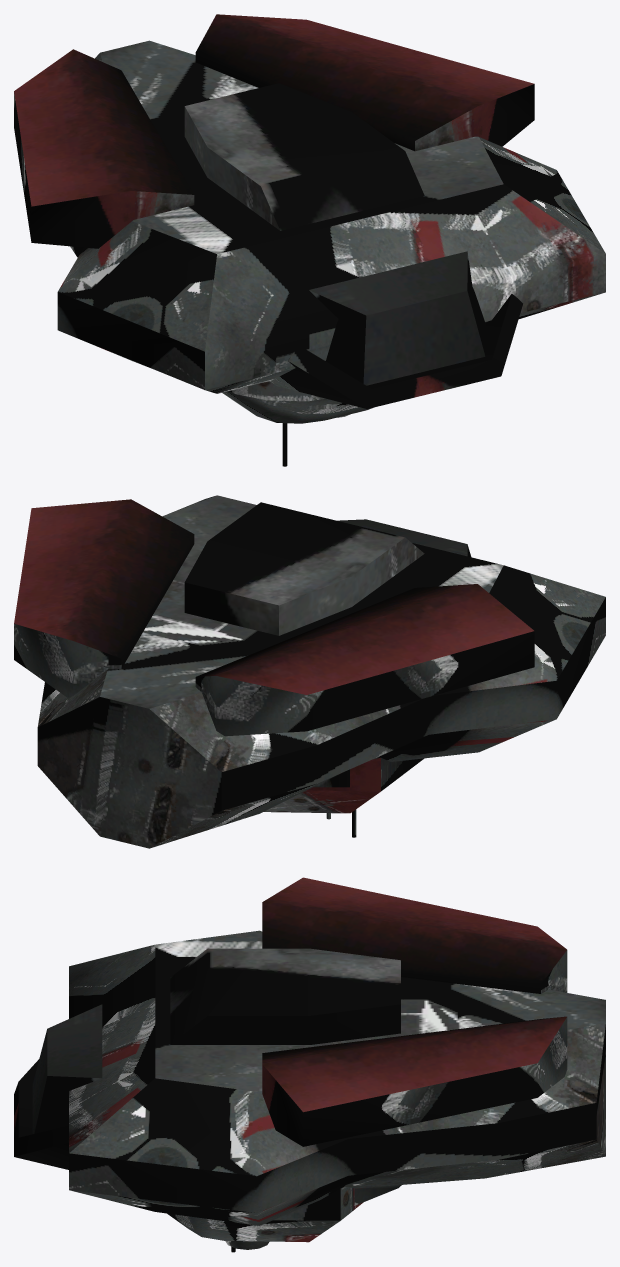
File: TypeIII.fbx
3 renders of one model, top to bottom at view 1: azimuth 30°, elevation 25°; view 2: azimuth 150°, elevation 25°; view 3: azimuth 270°, elevation 25°, orthographic. The views are drawn at different scales.
Parts seen in each view (by area): view 1: PipelineFBX; view 2: PipelineFBX; view 3: PipelineFBX.
Boxes of the visible parts, x1,y1,x2,y2 form: PipelineFBX: (14,14,605,466); PipelineFBX: (14,495,605,848); PipelineFBX: (14,877,605,1252).
Size of the model in its own units: 97.6 by 55.32 by 104.
Materials: 1 (1 with a texture image).
